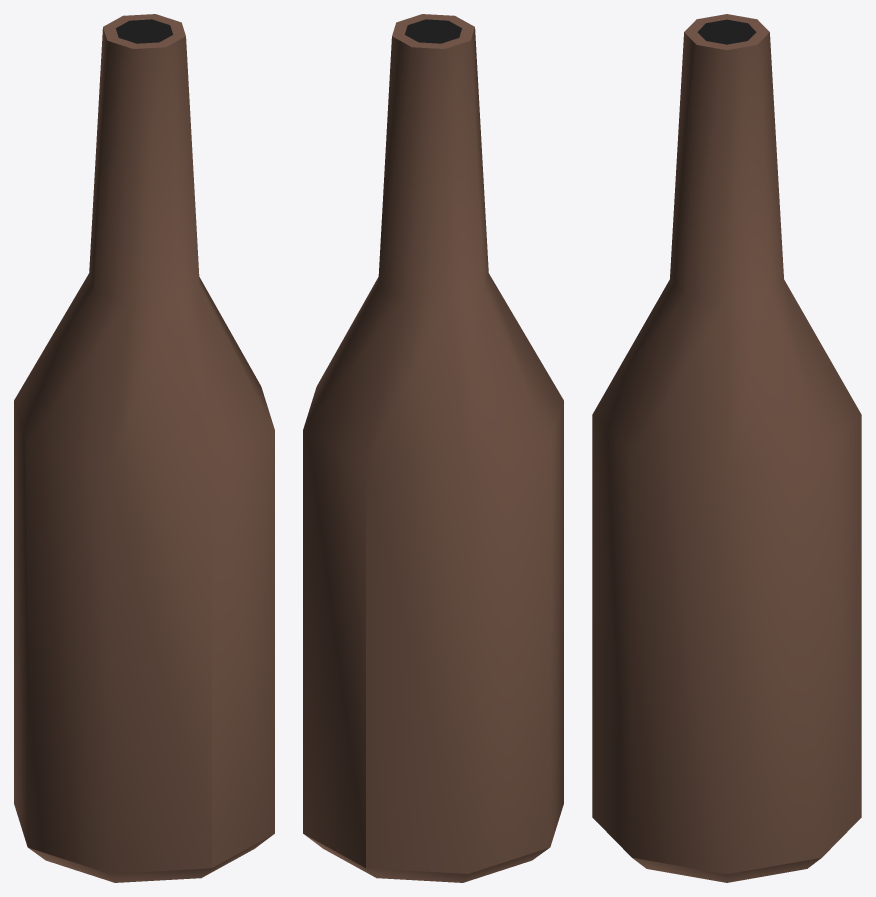
File: SM_Props_Garbage_05.fbx
The picture shows the model from 3 angles, left to right: view 1: azimuth 30°, elevation 25°; view 2: azimuth 150°, elevation 25°; view 3: azimuth 270°, elevation 25°; orthographic projection.
Visible parts, largest first — view 1: SM_Props_Garbage_05; view 2: SM_Props_Garbage_05; view 3: SM_Props_Garbage_05.
Part boxes in pixels (x1,y1,x2,y2): SM_Props_Garbage_05: (14,14,274,882); SM_Props_Garbage_05: (303,14,563,882); SM_Props_Garbage_05: (592,14,861,882).
Size of the model in its own units: 0.0805 by 0.265 by 0.0805.
